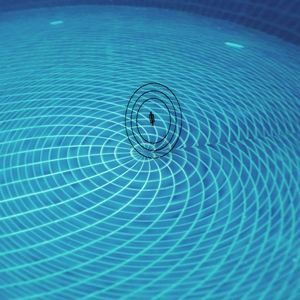circle: (115, 72, 188, 163)
submarine: (147, 115, 155, 124)
